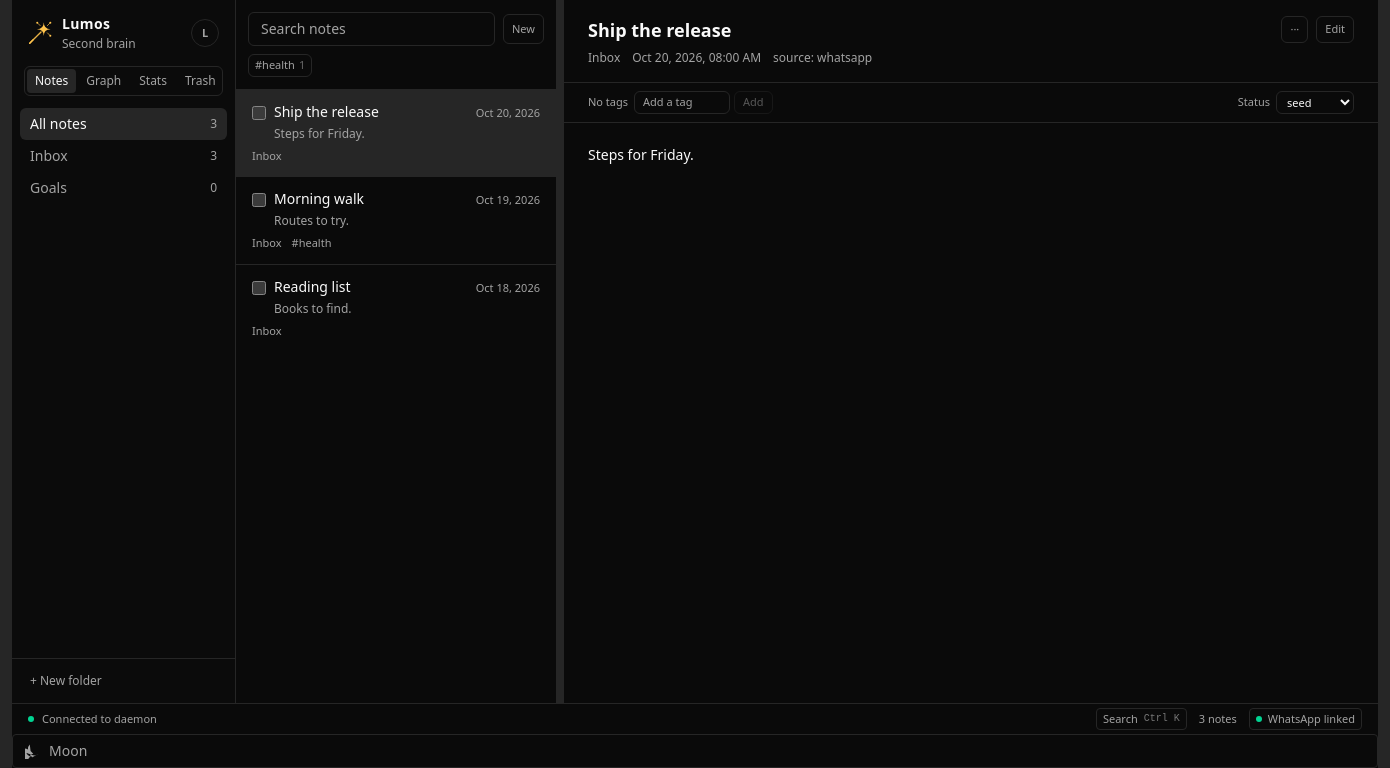
Test case: bulk actions › moves the selection through the folder picker
Expected: the search field with placeholder "Search notes" is shown, [248,12,495,46]
Step 1. Click the checkbox named "Select Morning walk" → (259, 200), box [252,193,266,207]
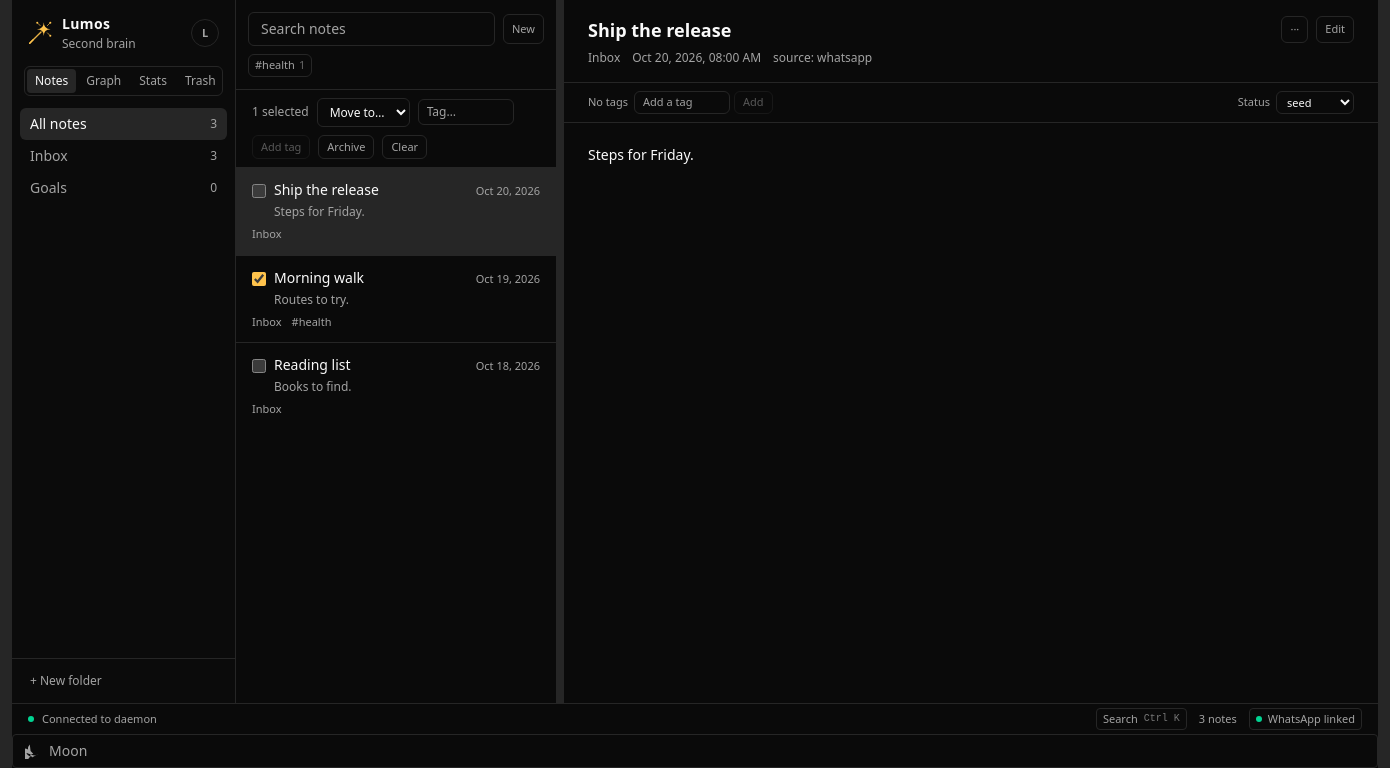
Step 2. Select "Goals" in the dropdown named "Move selected notes to" → (363, 112), box [317,98,410,126]
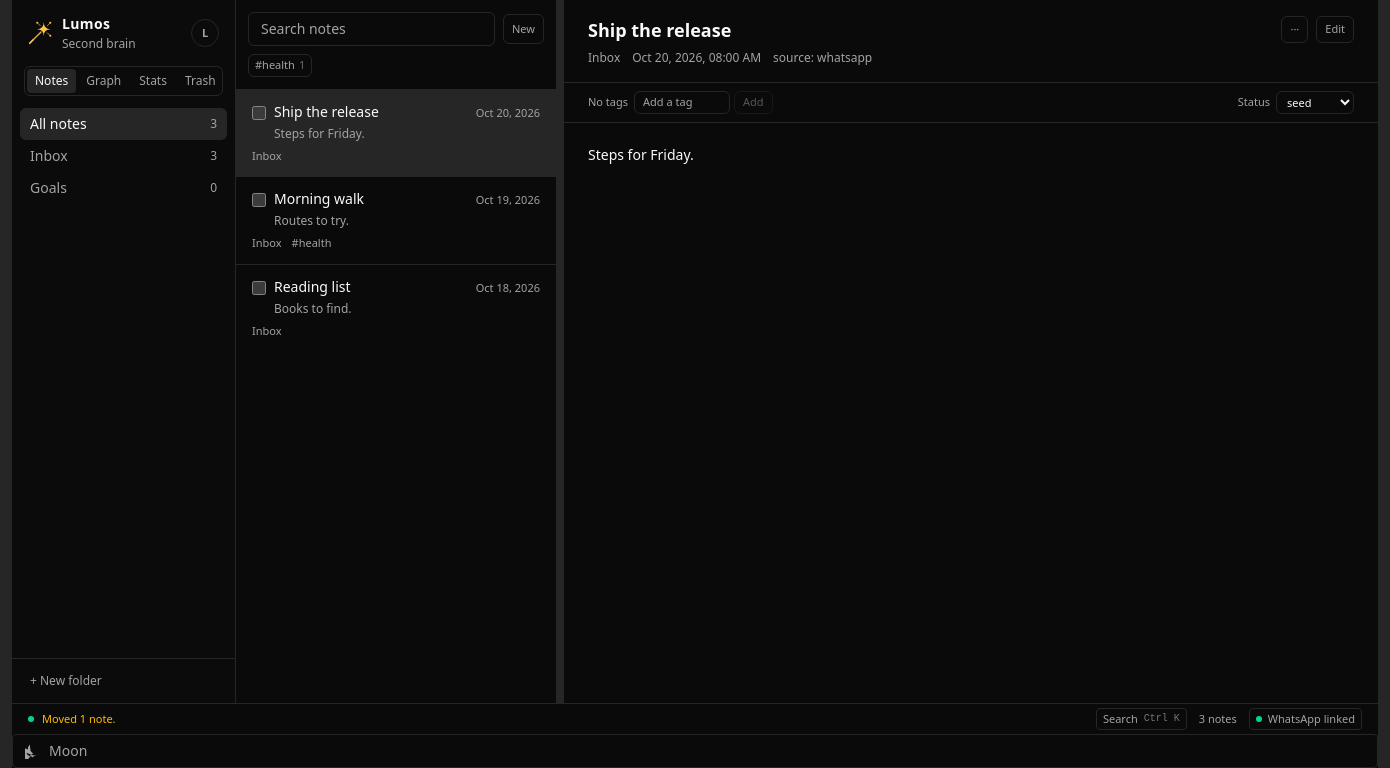
Result: the button "Moved 1 note." is shown at [42,710,116,727]
